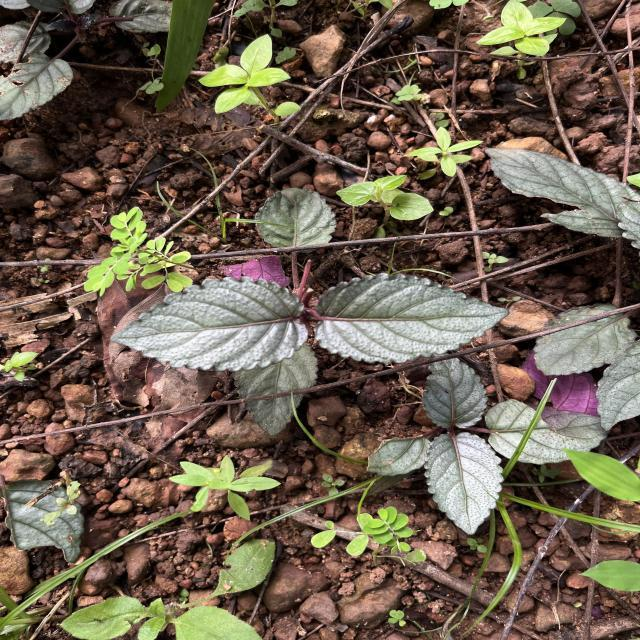Hemigraphis colorata: (106, 274, 312, 374), (310, 270, 513, 369), (480, 144, 638, 240), (421, 430, 507, 538), (484, 396, 612, 467), (230, 341, 322, 437), (530, 301, 638, 379), (252, 184, 339, 254), (418, 350, 492, 430)
